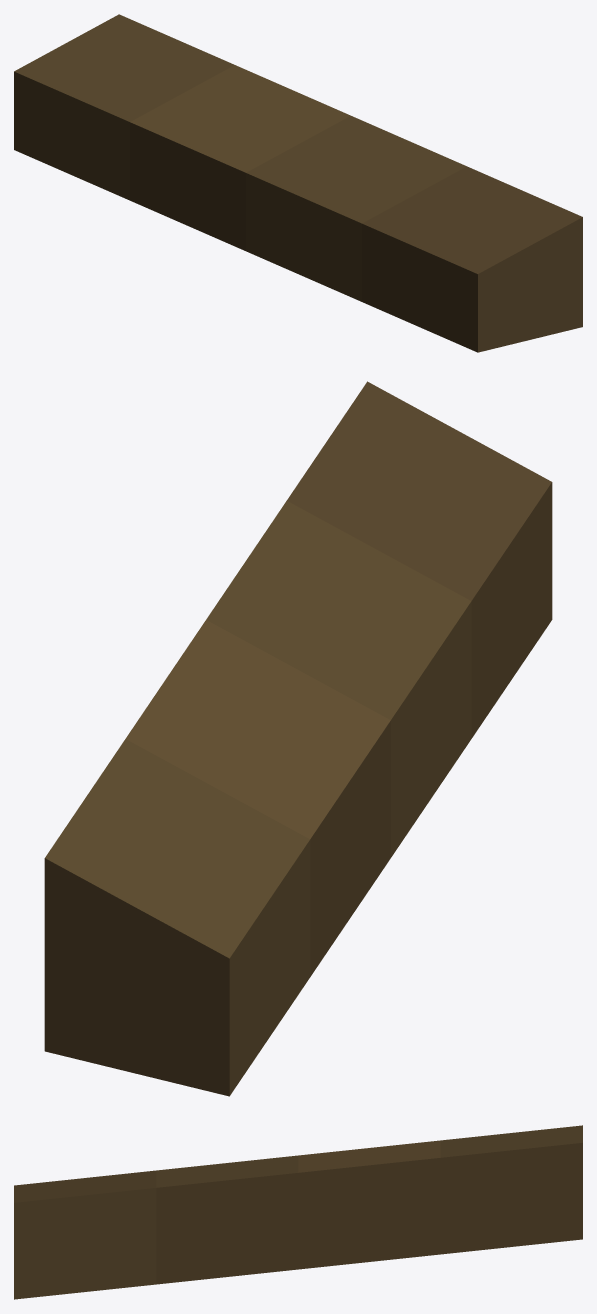
File: W18_Bank_Widen_Left.fbx
3 views of the same model, one above another, from view 1: azimuth 30°, elevation 25°; view 2: azimuth 150°, elevation 25°; view 3: azimuth 270°, elevation 25° (orthographic). The views are drawn at different scales.
Visible parts, largest first — view 1: W18_Bank_Widen_Left; view 2: W18_Bank_Widen_Left; view 3: W18_Bank_Widen_Left.
Part boxes in pixels (<box>): W18_Bank_Widen_Left: <box>14,14,582,352</box>; W18_Bank_Widen_Left: <box>44,381,552,1096</box>; W18_Bank_Widen_Left: <box>14,1125,582,1299</box>.
Size of the model in its own units: 1.75 by 0.75 by 4.
1 material, 1 textured.
